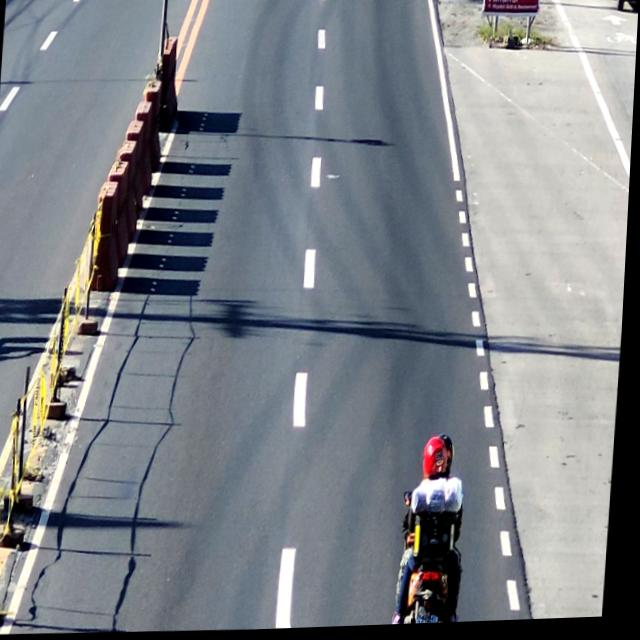Motorcycle: (400, 436, 478, 628)
